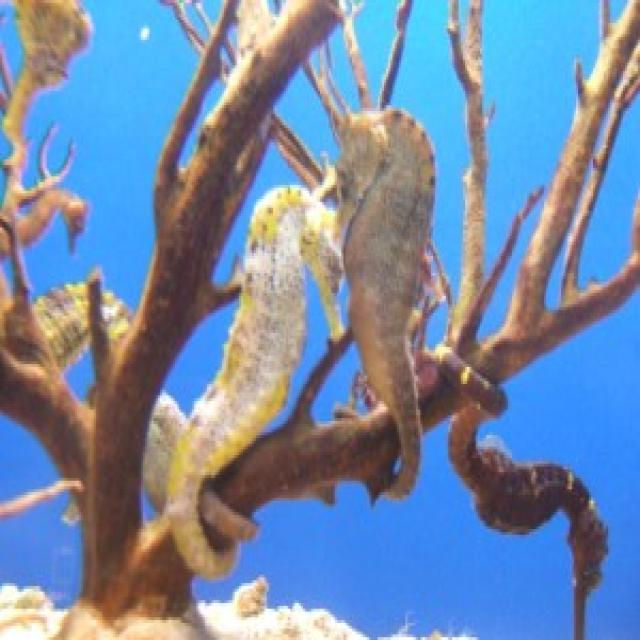Seahorse: (168, 185, 345, 608), (336, 71, 435, 506), (454, 387, 620, 640)
